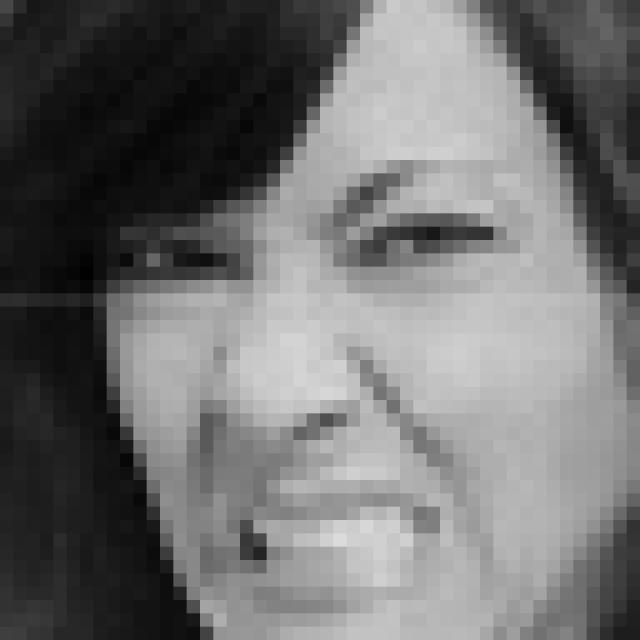disgust: (109, 149, 530, 612)
